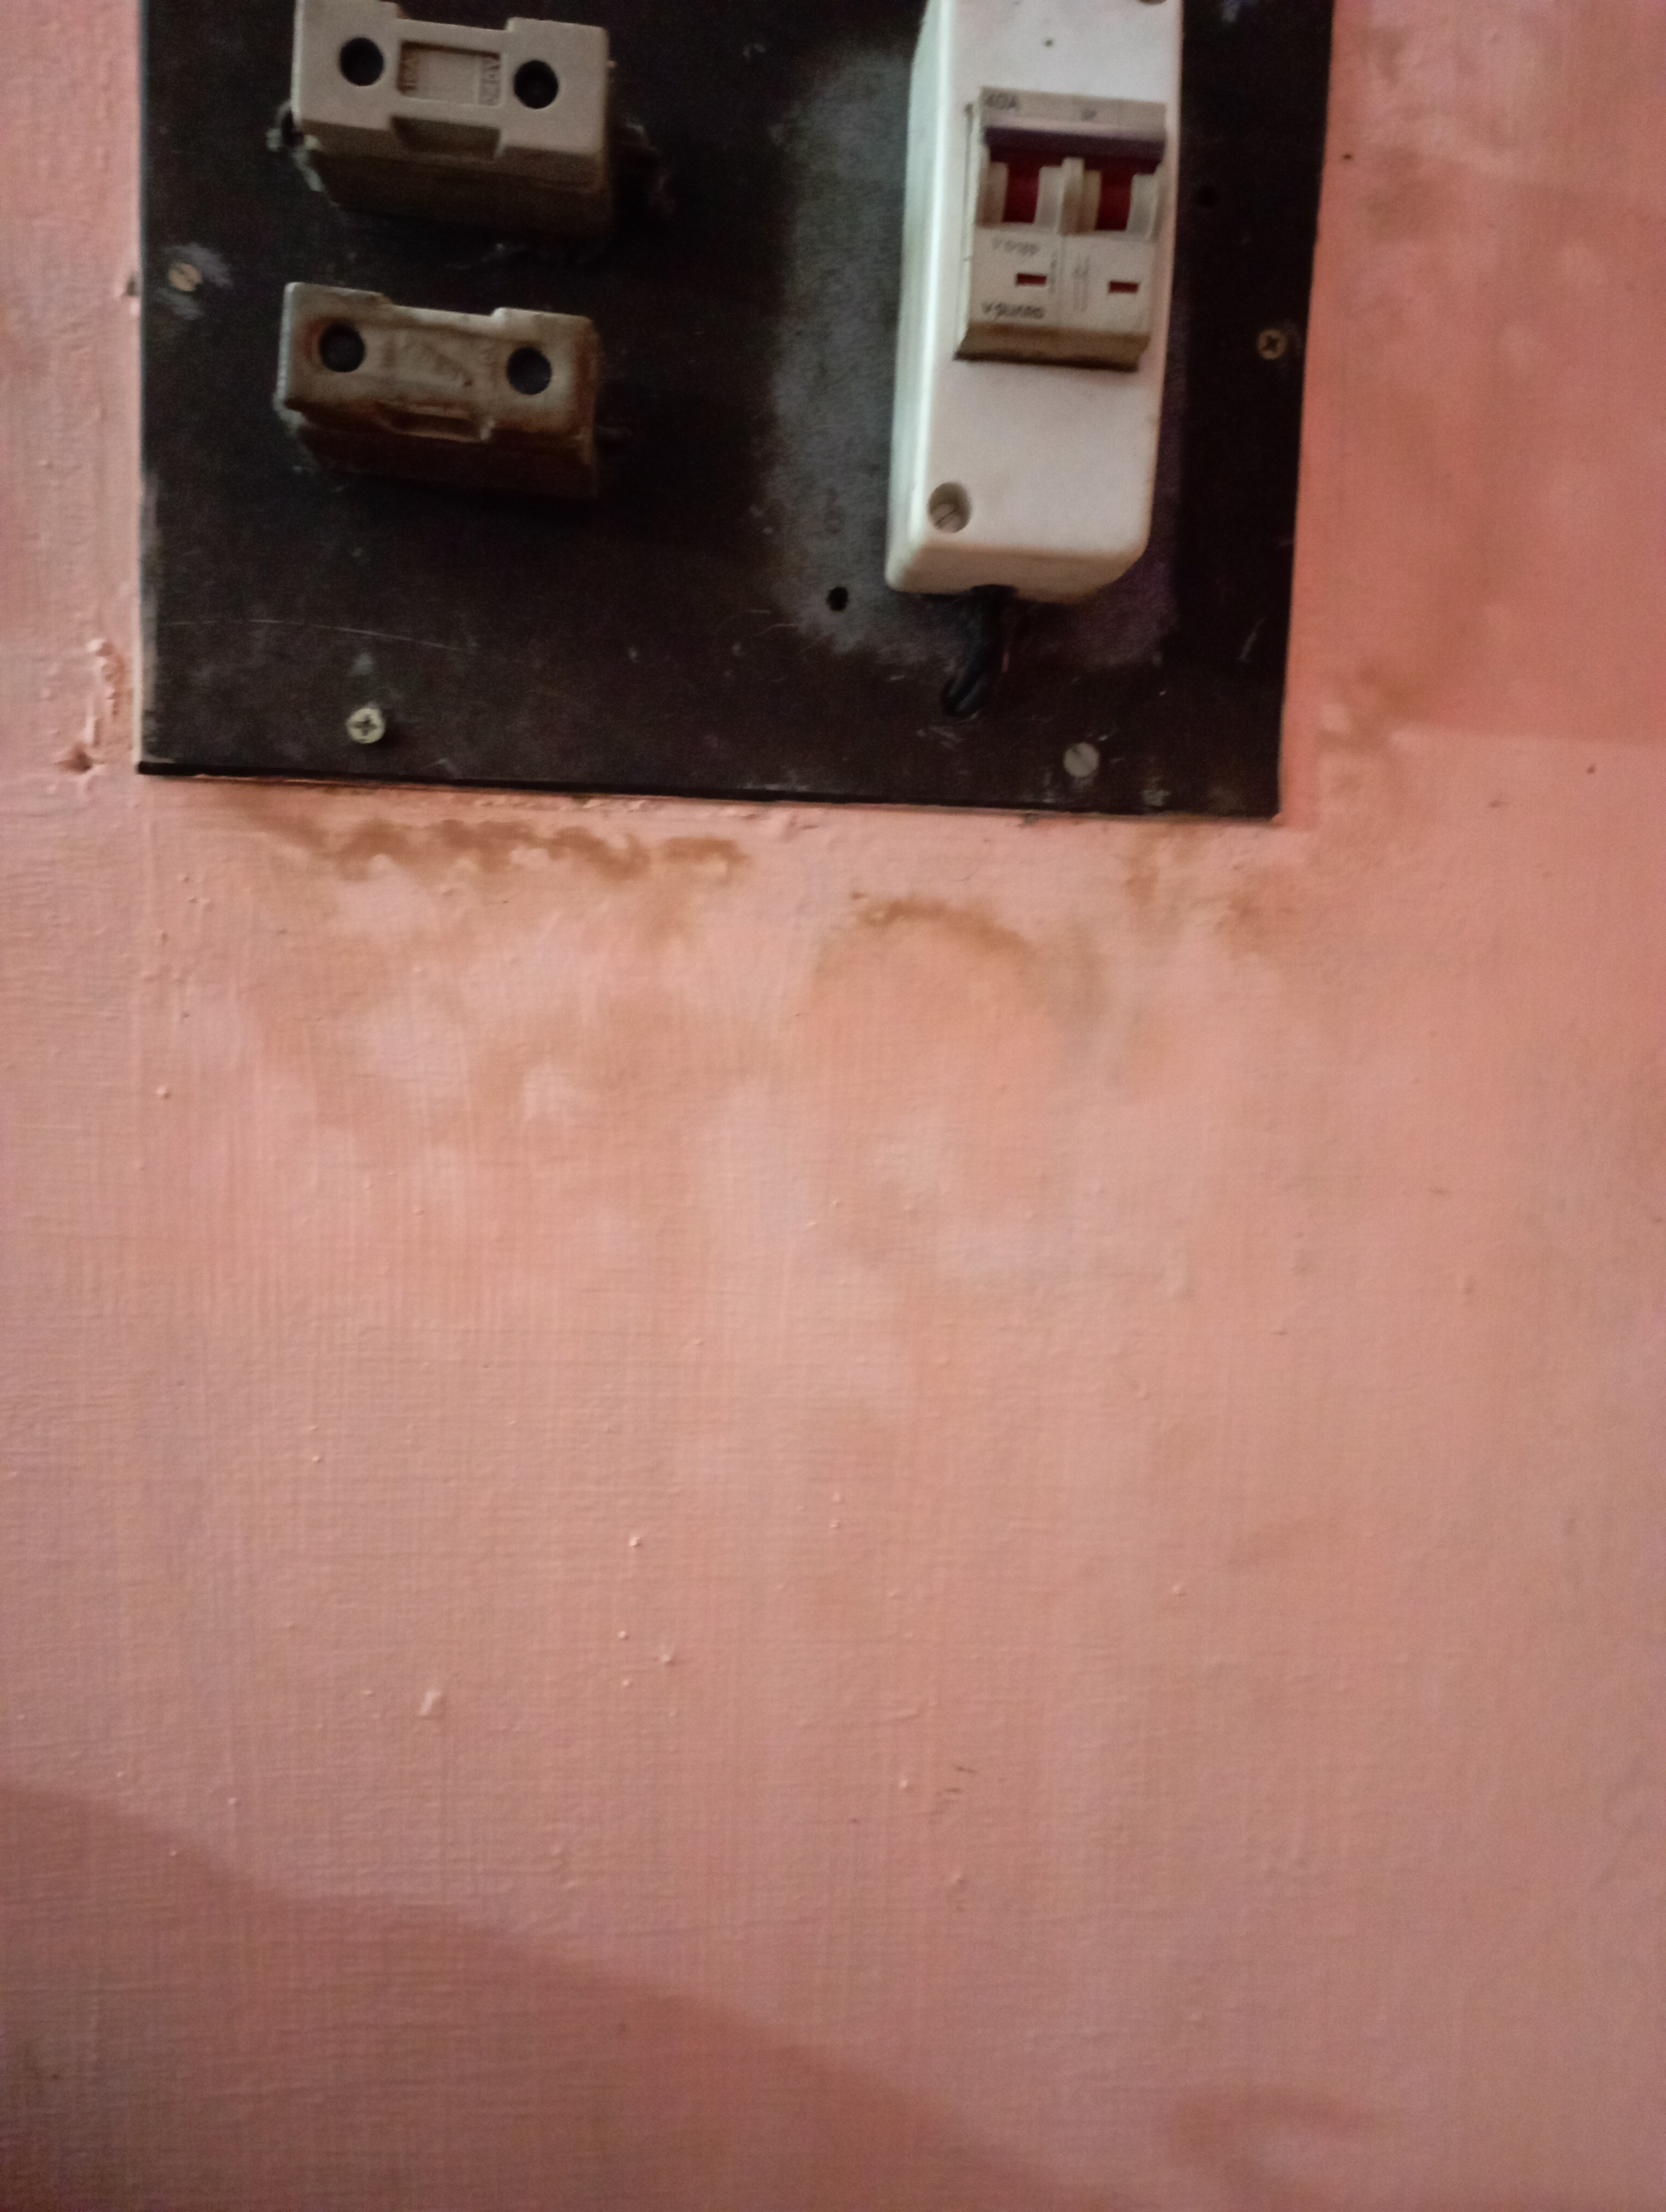ciruit_breaker: (900, 0, 1181, 626)
fuse: (259, 0, 691, 203), (235, 269, 604, 481)
